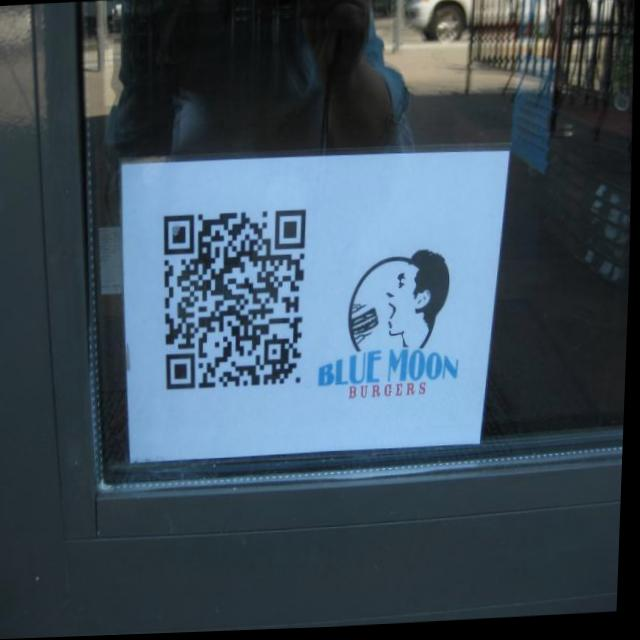qrcode: (161, 211, 311, 392)
